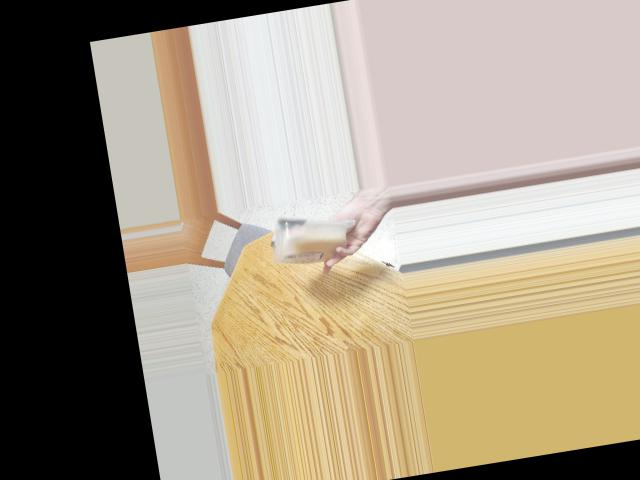cheese: (273, 214, 346, 267)
